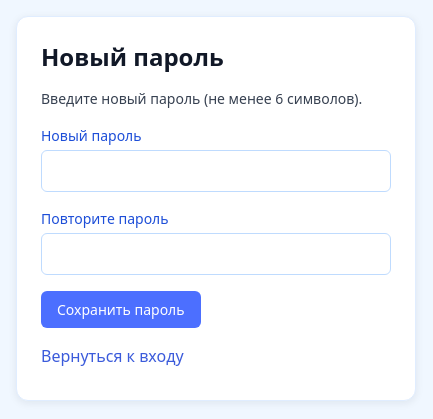
Test: ResetPasswordPage › shows success message after successful reset
Type "newpass123" into the password field labelled "Новый пароль" at coordinates (216, 171), box [41,150,391,192]
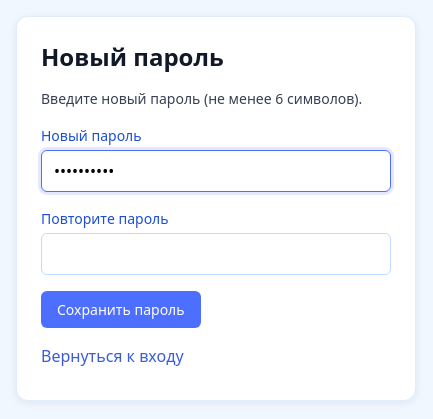
Type "newpass123" into the password field labelled "Повторите пароль" at coordinates (216, 254), box [41,233,391,275]
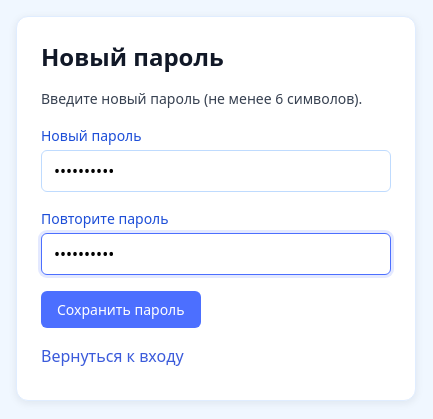
Click the button "Сохранить пароль" at coordinates (121, 310), box [41,291,200,328]
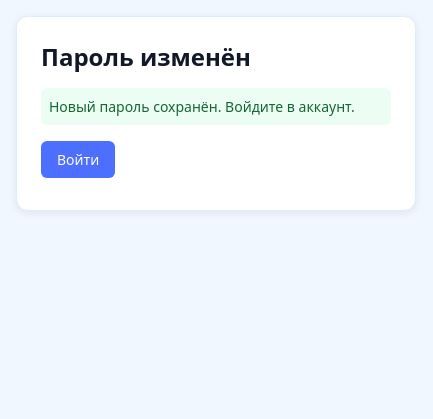
Result: the heading "Пароль изменён" is shown at [41,40,251,73]
